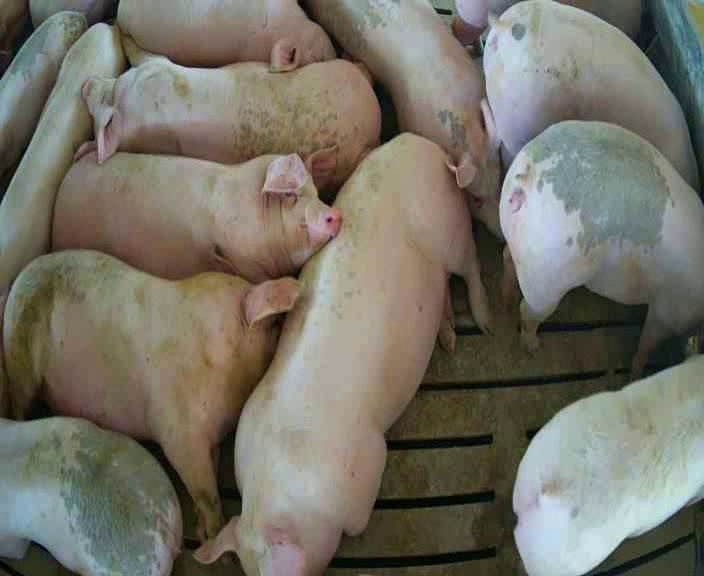pig: (192, 133, 487, 574), (4, 247, 299, 536), (72, 22, 379, 191), (500, 122, 703, 369), (305, 2, 499, 234), (513, 355, 703, 573), (483, 2, 697, 189), (53, 147, 339, 281), (0, 24, 124, 295), (117, 1, 335, 71), (0, 11, 86, 182)
